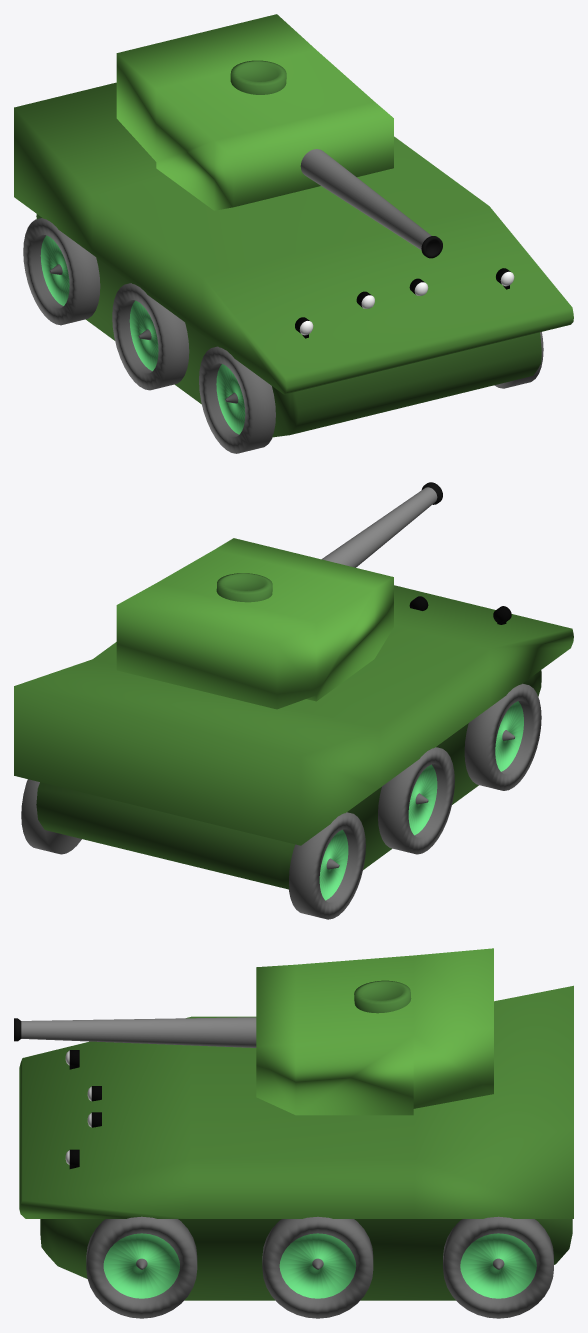
Rendered from TankGuerra.fbx.
The picture shows the model from 3 angles, top to bottom: view 1: azimuth 30°, elevation 25°; view 2: azimuth 150°, elevation 25°; view 3: azimuth 270°, elevation 25°; orthographic projection.
Visible parts, largest first — view 1: meioTank, topoTank, BaixoTank, Cylinder, Cylinder.001, Cylinder.002, Bazooca, Cylinder.003; view 2: meioTank, topoTank, BaixoTank, Cylinder.002, Cylinder, Cylinder.001, Bazooca, Cylinder.003; view 3: meioTank, topoTank, BaixoTank, Cylinder.001, Cylinder, Cylinder.002, Bazooca, Cylinder.003.
Boxes of the visible parts, <box> form: meioTank: <box>14,82,573,394</box>; topoTank: <box>116,14,393,210</box>; BaixoTank: <box>36,214,541,437</box>; Cylinder: <box>199,332,543,453</box>; Cylinder.001: <box>112,283,189,390</box>; Cylinder.002: <box>23,218,100,325</box>; Bazooca: <box>300,149,442,258</box>; Cylinder.003: <box>230,60,286,94</box>; meioTank: <box>14,585,573,845</box>; topoTank: <box>116,538,393,709</box>; BaixoTank: <box>36,670,541,889</box>; Cylinder.002: <box>21,779,365,919</box>; Cylinder: <box>464,683,541,790</box>; Cylinder.001: <box>378,747,454,854</box>; Bazooca: <box>321,482,442,567</box>; Cylinder.003: <box>216,573,272,602</box>; meioTank: <box>19,985,573,1218</box>; topoTank: <box>256,948,493,1115</box>; BaixoTank: <box>40,1219,572,1300</box>; Cylinder.001: <box>262,1216,373,1318</box>; Cylinder: <box>86,1216,197,1318</box>; Cylinder.002: <box>443,1216,553,1318</box>; Bazooca: <box>14,1017,256,1047</box>; Cylinder.003: <box>354,980,411,1013</box>.
Bounding box in the file's own units: 6.13 × 5.15 × 10.08.
